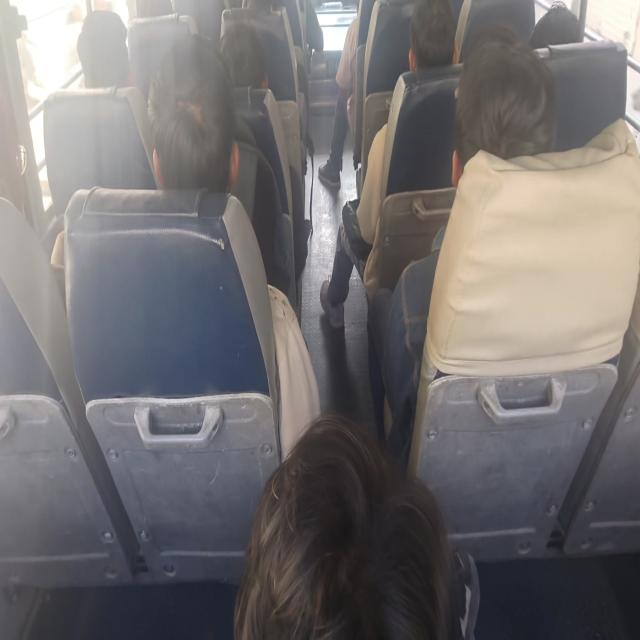person: (229, 412, 471, 640), (147, 52, 240, 200), (456, 40, 550, 184), (0, 82, 36, 222), (391, 11, 464, 73), (74, 18, 127, 98), (212, 26, 266, 100), (526, 2, 600, 51)
